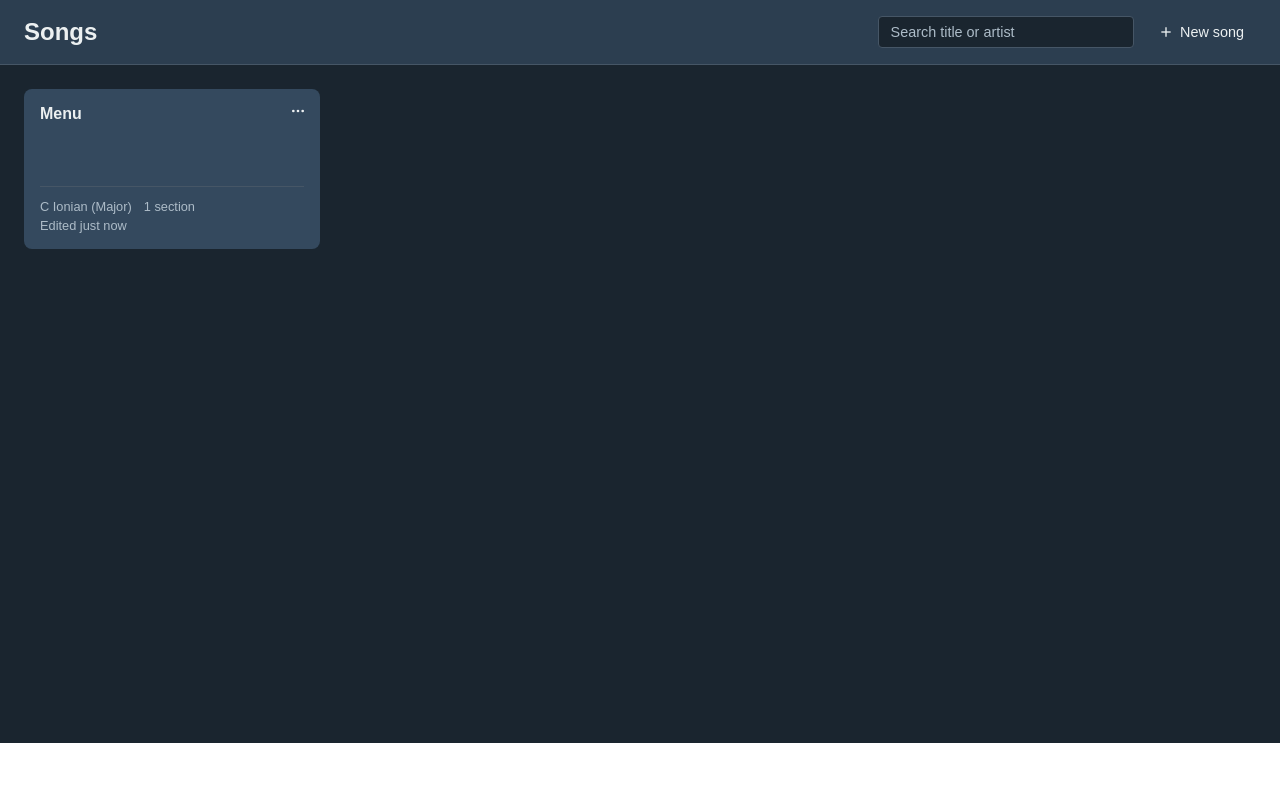
it: SongLibraryPageComponent › a card's menu › closes on Escape, giving the focus back to its button
Click the button with class "card-menu-toggle" at (298,111), box top-left (285, 97), bottom-right (312, 125)
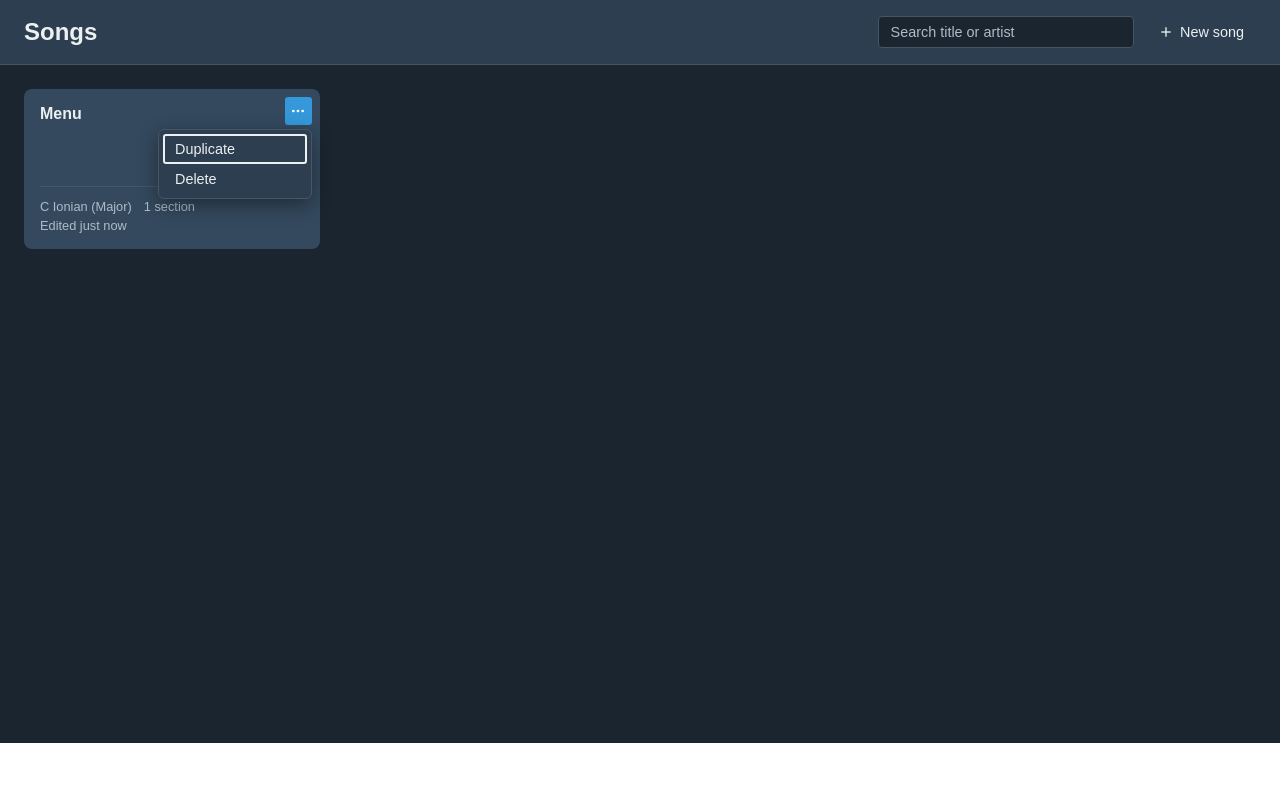
Press Escape in the button with class "card-duplicate", box top-left (163, 134), bottom-right (307, 164)
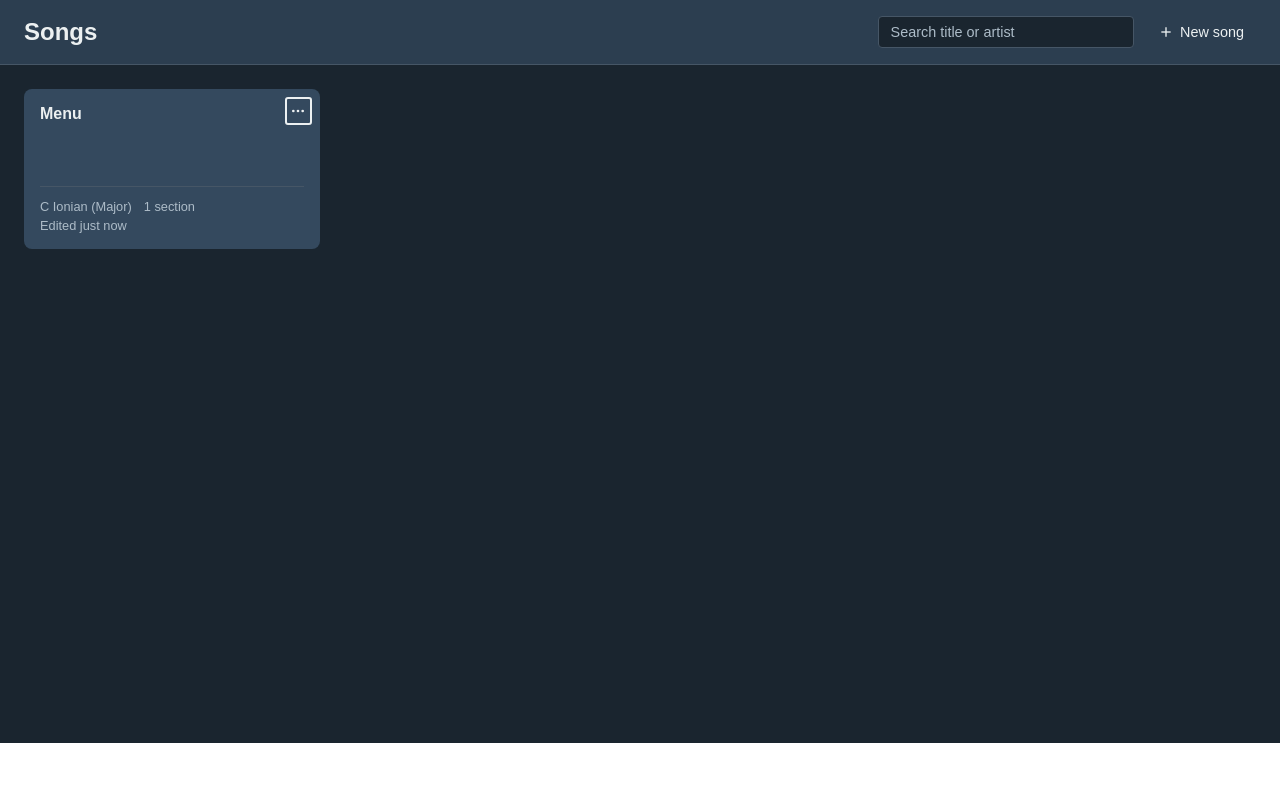
Check: the button with class "card-menu-toggle" is collapsed, box top-left (285, 97), bottom-right (312, 125)
